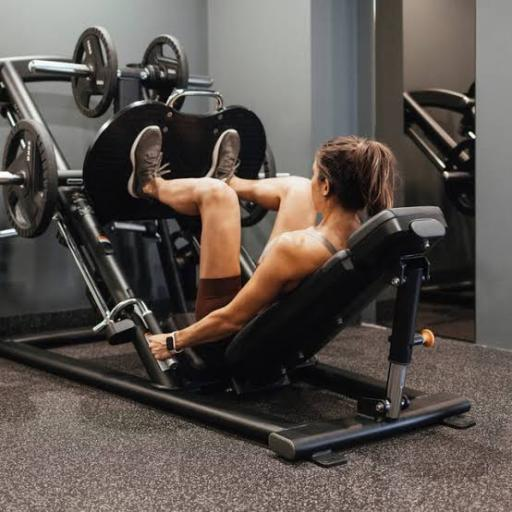Leg Press: (0, 58, 452, 400)
